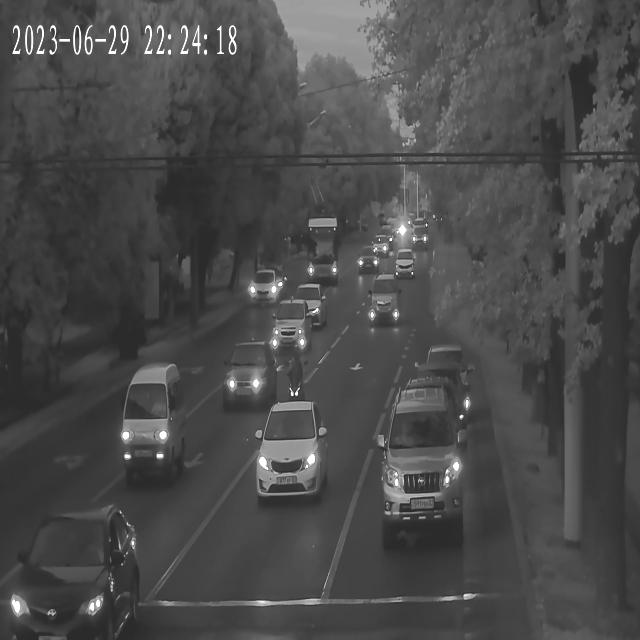Bus: (122, 364, 186, 475), (303, 216, 337, 276)
Car: (2, 510, 136, 638), (375, 390, 466, 525), (252, 402, 328, 504), (397, 370, 470, 433), (218, 341, 280, 408), (263, 303, 313, 358), (415, 347, 470, 392), (367, 273, 406, 325), (291, 286, 329, 332), (248, 272, 286, 306), (306, 256, 339, 284), (392, 252, 418, 280), (356, 250, 379, 273), (409, 230, 429, 250), (372, 237, 392, 257)
Motorcycle: (287, 356, 305, 402)
